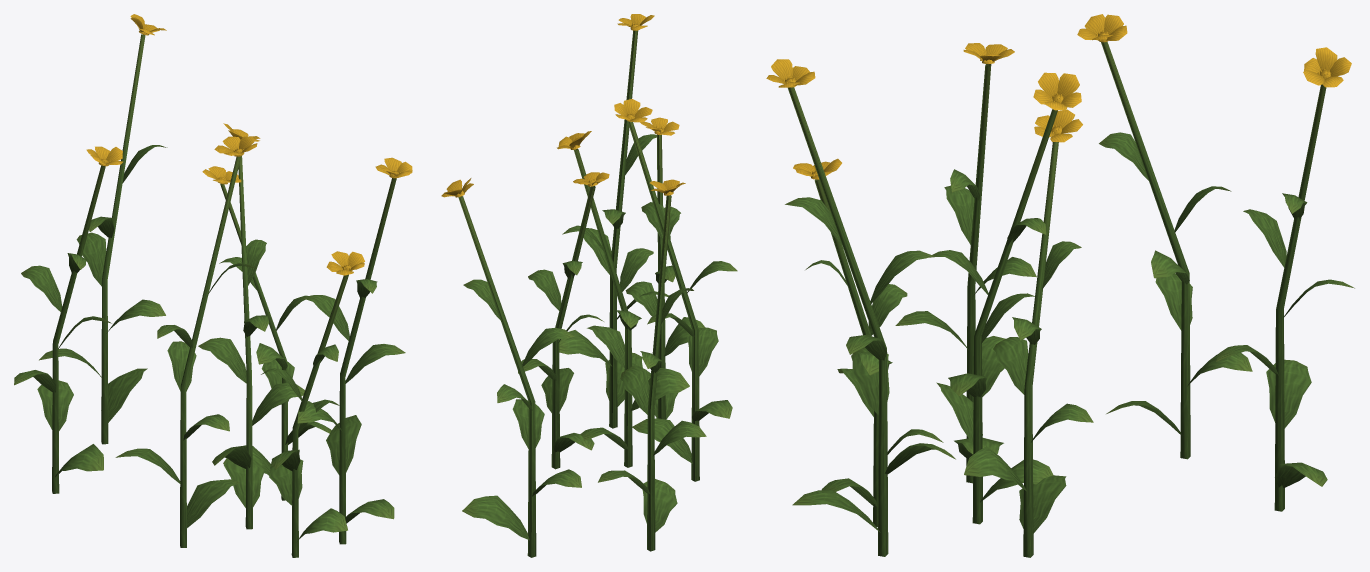
The model's file is Buttercup_C.fbx.
3 views of the same model, side by side, from view 1: azimuth 30°, elevation 25°; view 2: azimuth 150°, elevation 25°; view 3: azimuth 270°, elevation 25° (orthographic). The views are drawn at different scales.
Parts seen in each view (by area): view 1: Buttercup_C_LOD0; view 2: Buttercup_C_LOD0; view 3: Buttercup_C_LOD0.
Boxes of the visible parts, <box> form: Buttercup_C_LOD0: <box>14,14,412,557</box>; Buttercup_C_LOD0: <box>441,14,737,557</box>; Buttercup_C_LOD0: <box>766,14,1354,557</box>.
Size of what is drawn, in the model's own units: 18.07 by 26.49 by 28.55.
Materials: 1 (1 with a texture image).
